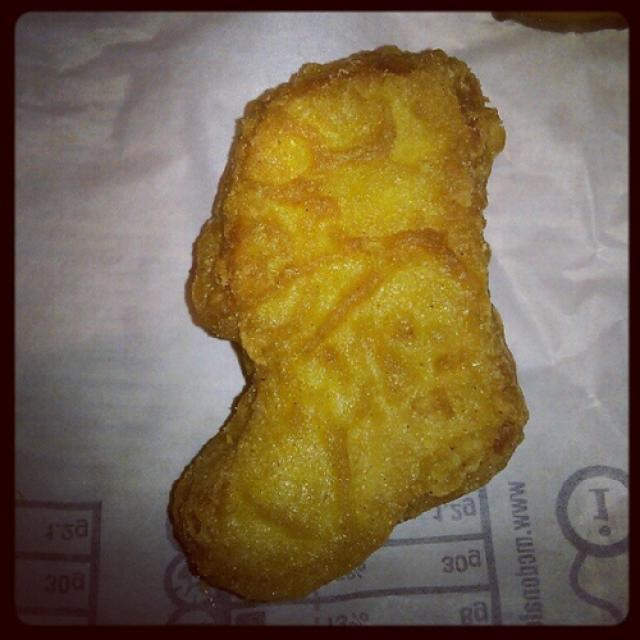Chicken nugget: (134, 37, 534, 617)
